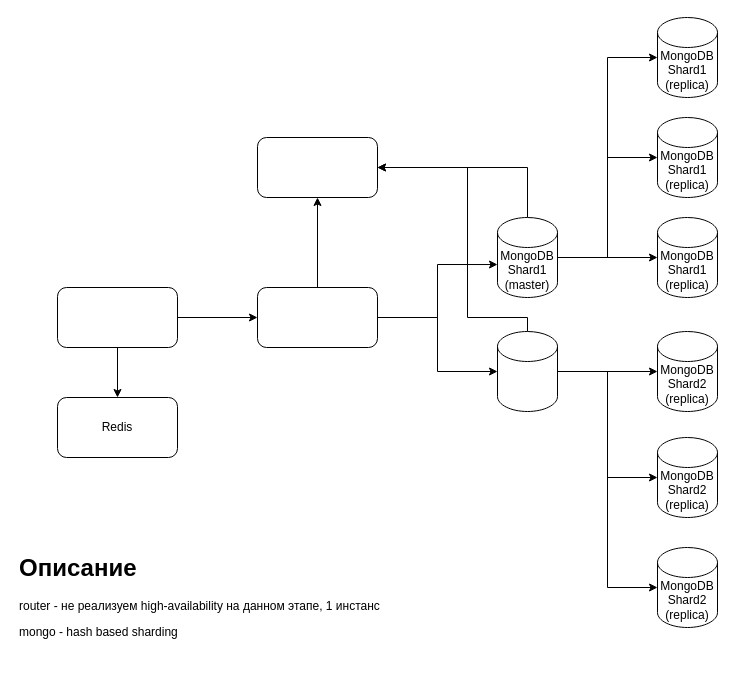
This 735x688 diagram has some shape labels left out. Each missing label, with the box of its shape:
config server: (256, 136, 378, 198)
MongoDB Shard2 (master): (496, 330, 558, 412)
pymongo-api: (56, 286, 178, 348)
router: (256, 286, 378, 348)
